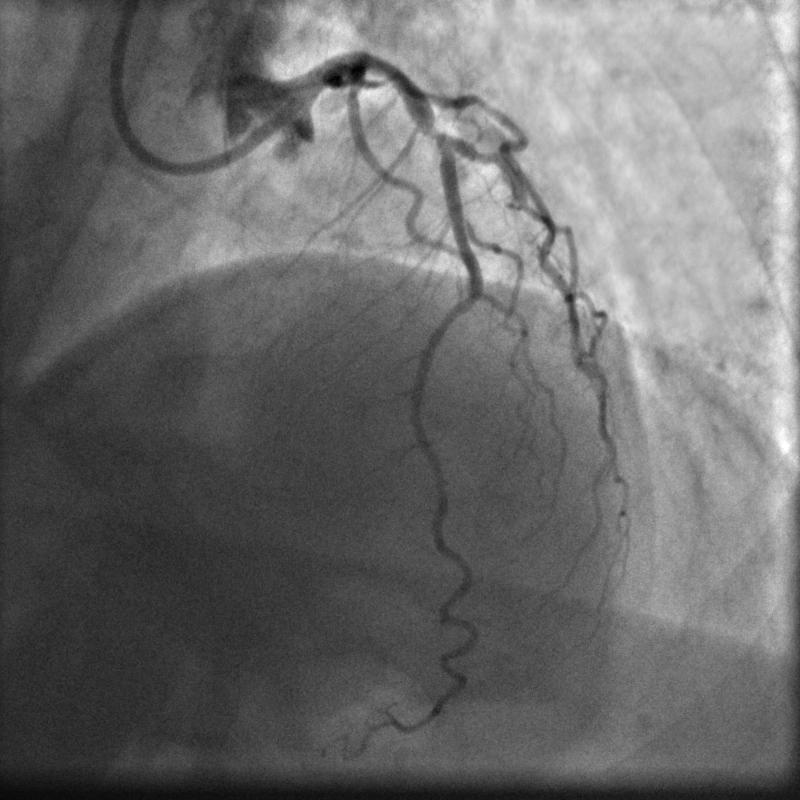Stenosis: (413, 120, 447, 139)
